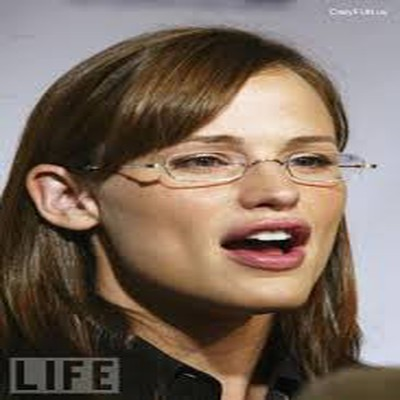eywear: (127, 120, 386, 195)
